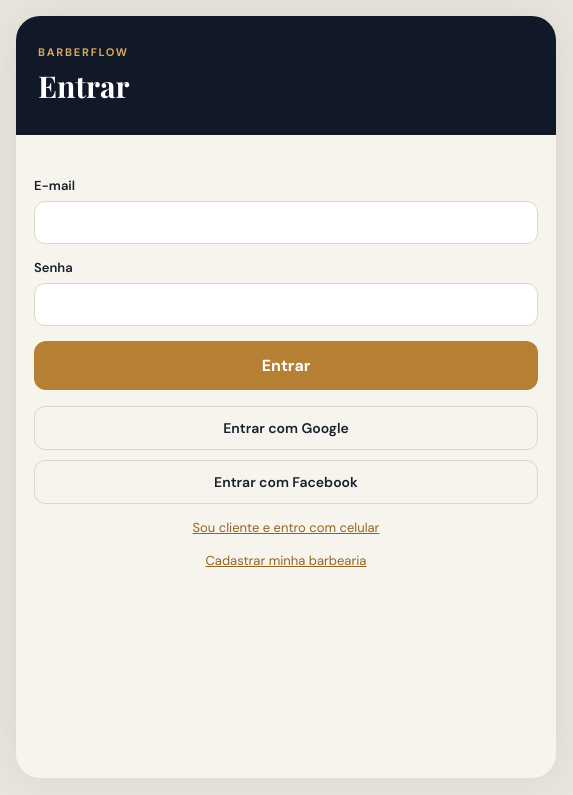
Test case: Login - phone mode › redirects to recover mode on account_locked
Click the button "Sou cliente e entro com celular".
click(286, 528)  # box [187,518,386,537]
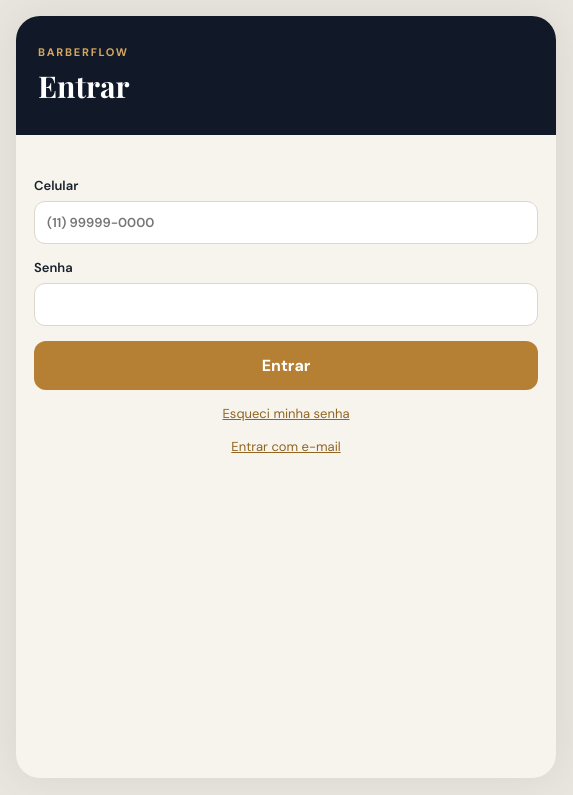
Type "11999990000" into the field labelled "Celular".
click(286, 222); type("11999990000")  # box [34,201,538,244]
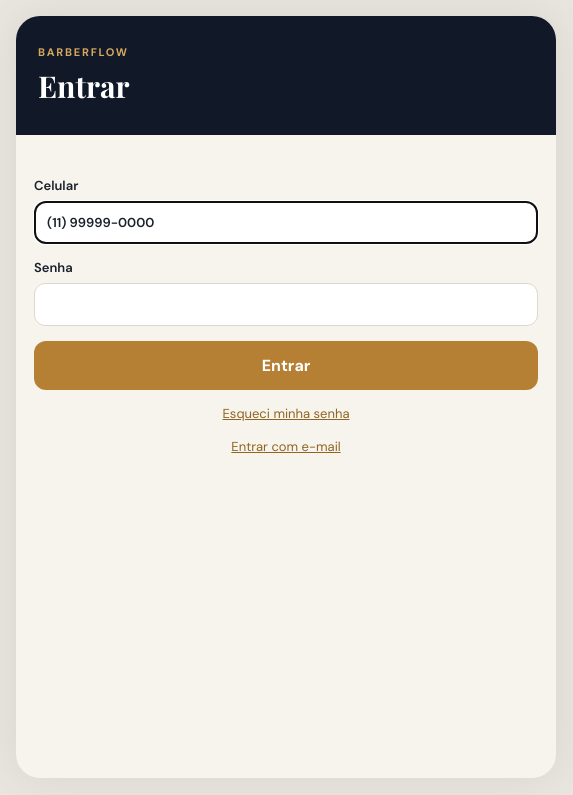
Type "wrong" into the password field labelled "Senha".
click(286, 304); type("wrong")  # box [34,283,538,326]
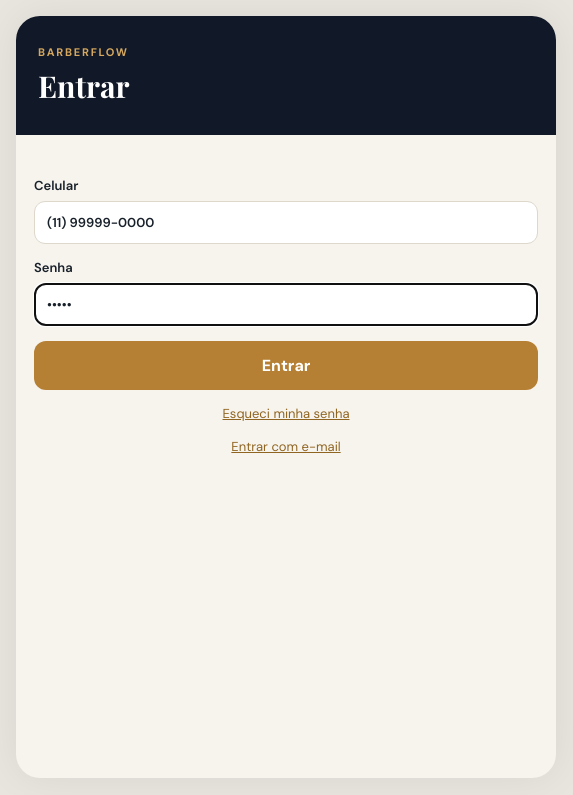
Click the button "Entrar".
click(286, 366)  # box [34,341,538,390]
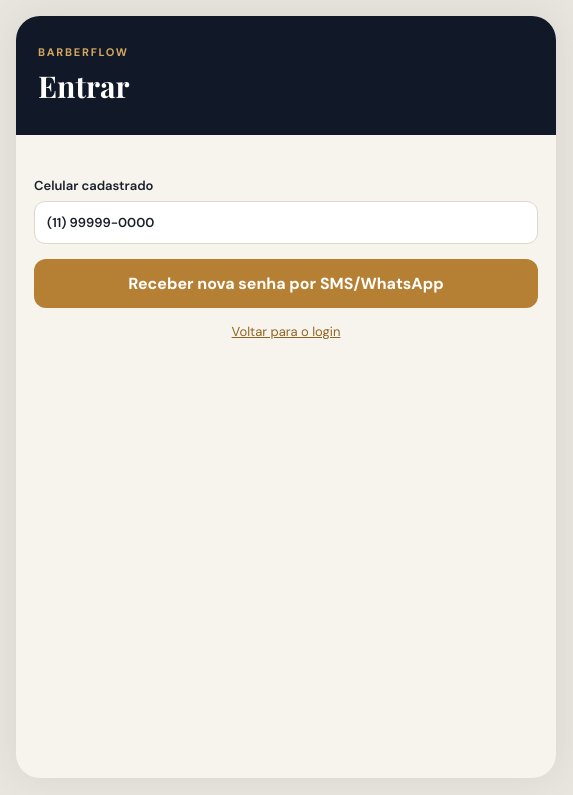
Result: the button "Receber nova senha por SMS/WhatsApp" is shown at [34,259,538,308]
